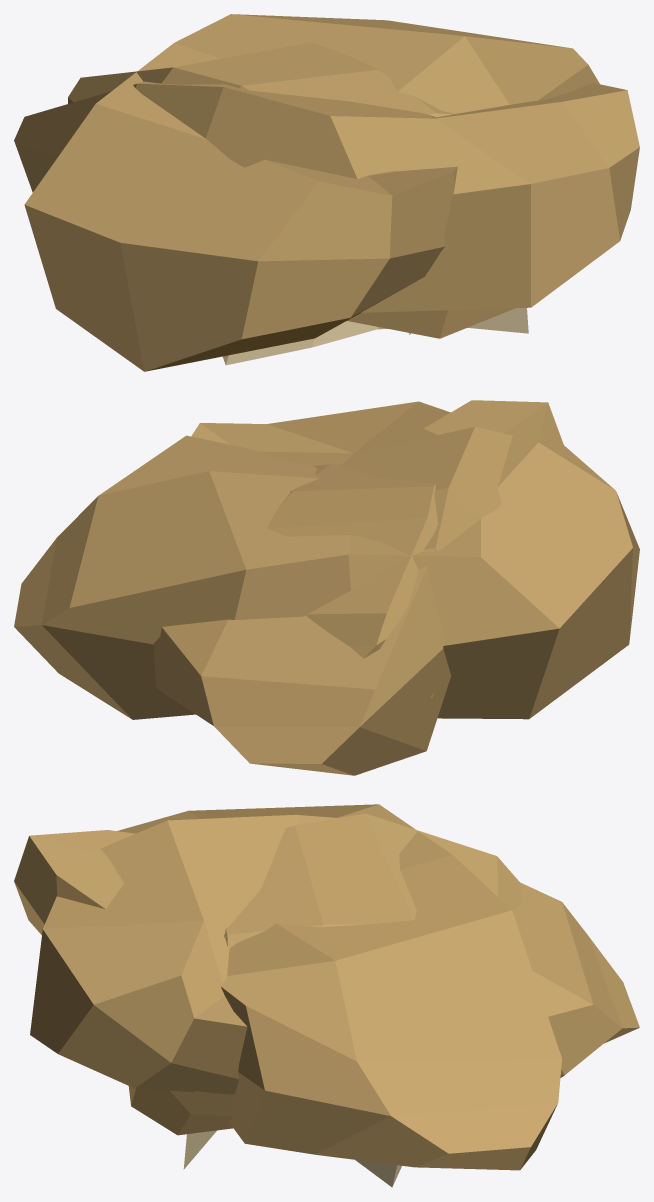
The model's file is rocks2.fbx.
The picture shows the model from 3 angles, top to bottom: view 1: azimuth 30°, elevation 25°; view 2: azimuth 150°, elevation 25°; view 3: azimuth 270°, elevation 25°; orthographic projection. The views are drawn at different scales.
Visible parts, largest first — view 1: Cube.022, Cube.023, Cube.020, Cube.021; view 2: Cube.022, Cube.023, Cube.020; view 3: Cube.022, Cube.023, Cube.020, Cube.024, Cube.021.
Part boxes in pixels (bbox=[...]): Cube.022: bbox=[24, 14, 599, 371]; Cube.023: bbox=[14, 81, 639, 312]; Cube.020: bbox=[68, 42, 514, 338]; Cube.021: bbox=[222, 308, 528, 365]; Cube.022: bbox=[14, 400, 639, 719]; Cube.023: bbox=[153, 401, 512, 775]; Cube.020: bbox=[266, 464, 437, 698]; Cube.022: bbox=[14, 804, 561, 1170]; Cube.023: bbox=[30, 814, 639, 1094]; Cube.020: bbox=[128, 813, 531, 1135]; Cube.024: bbox=[355, 1160, 401, 1187]; Cube.021: bbox=[183, 1130, 216, 1169].
Size of the model in its own units: 1471 by 737 by 1453.
